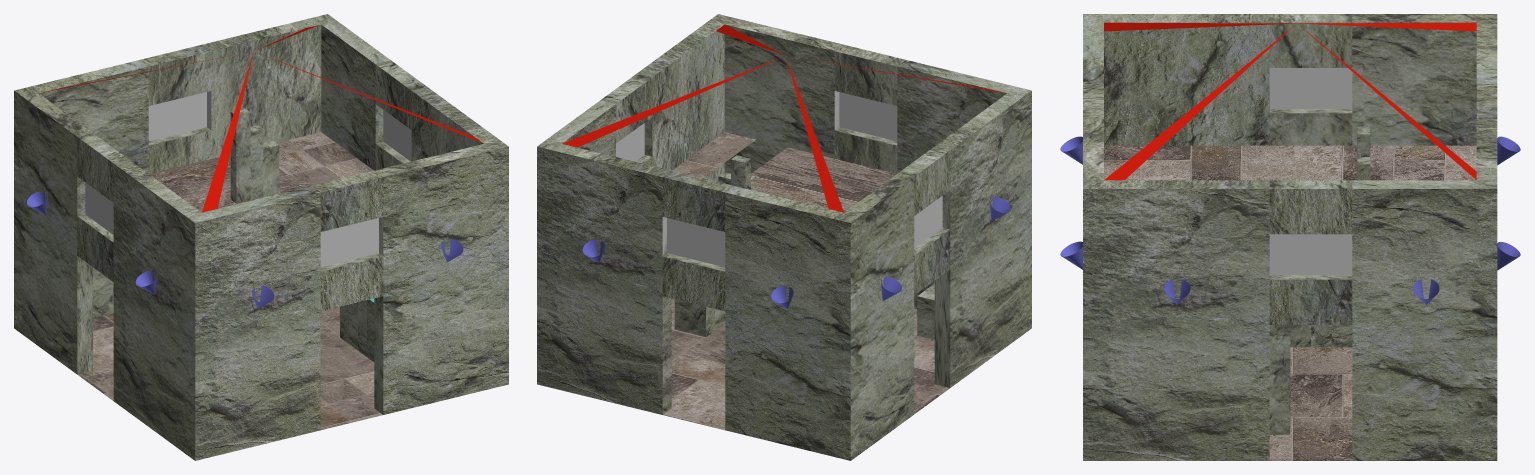
File: Tower1.fbx
3 renders of one model, left to right at view 1: azimuth 30°, elevation 25°; view 2: azimuth 150°, elevation 25°; view 3: azimuth 270°, elevation 25°, orthographic. The views are drawn at different scales.
Parts seen in each view (by area): view 1: Plane, Plane.001; view 2: Plane, Plane.001; view 3: Plane, Plane.001.
Part boxes in pixels (<box>): Plane: <box>14,14,508,460</box>; Plane.001: <box>149,132,373,212</box>; Plane: <box>537,14,1031,460</box>; Plane.001: <box>672,132,896,212</box>; Plane: <box>1060,14,1520,460</box>; Plane.001: <box>1104,145,1476,180</box>.
Size of the model in its own units: 1840 by 1533 by 1841.
